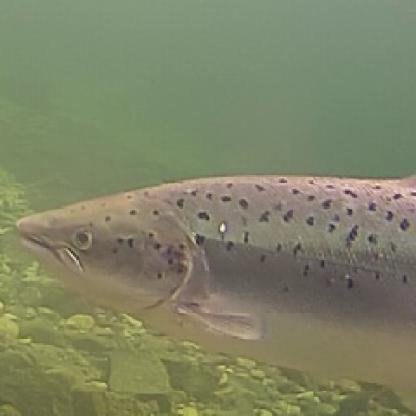salmon: (5, 163, 414, 409)
